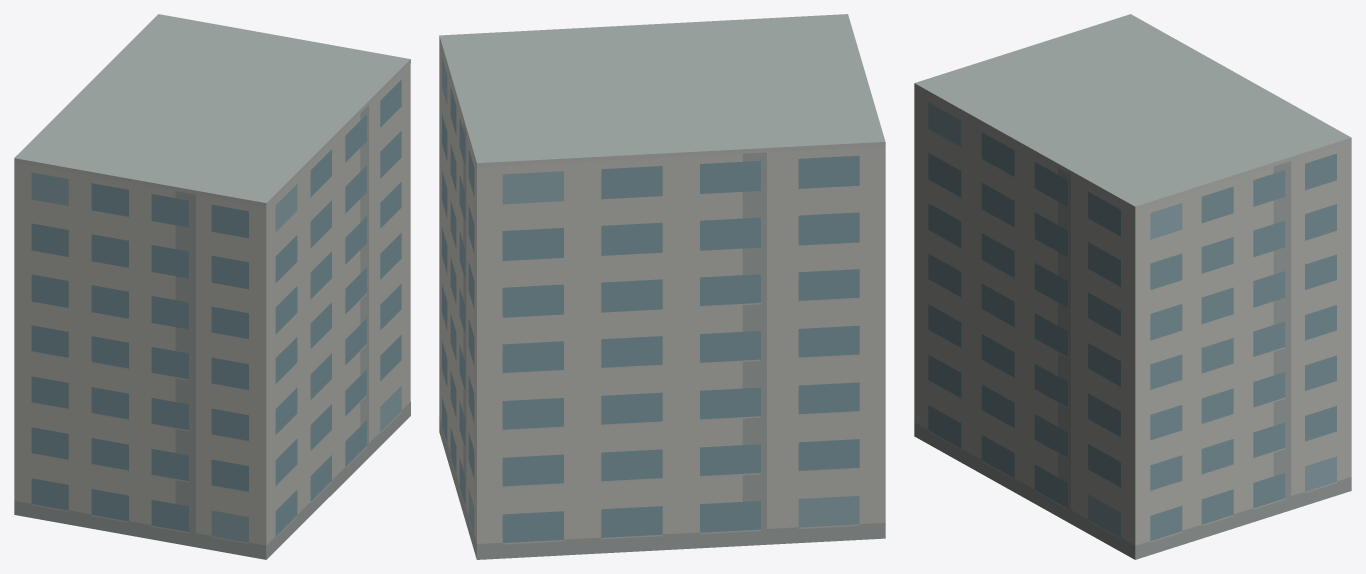
File: residential-e9b17352-3a1c-4dd5-817a-0512c1d0104b.glb
The picture shows the model from 3 angles, left to right: view 1: azimuth 30°, elevation 25°; view 2: azimuth 150°, elevation 25°; view 3: azimuth 270°, elevation 25°; orthographic projection. The views are drawn at different scales.
Visible parts, largest first — view 1: residential-e9b17352-3a1c-4dd5-817a-0512c1d0104b.tmp; view 2: residential-e9b17352-3a1c-4dd5-817a-0512c1d0104b.tmp; view 3: residential-e9b17352-3a1c-4dd5-817a-0512c1d0104b.tmp.
Boxes of the visible parts, bbox=[...] form: residential-e9b17352-3a1c-4dd5-817a-0512c1d0104b.tmp: bbox=[14, 14, 410, 559]; residential-e9b17352-3a1c-4dd5-817a-0512c1d0104b.tmp: bbox=[439, 14, 885, 559]; residential-e9b17352-3a1c-4dd5-817a-0512c1d0104b.tmp: bbox=[914, 14, 1351, 559].
Bounding box in the file's own units: 24.99 × 21.35 × 23.97.
